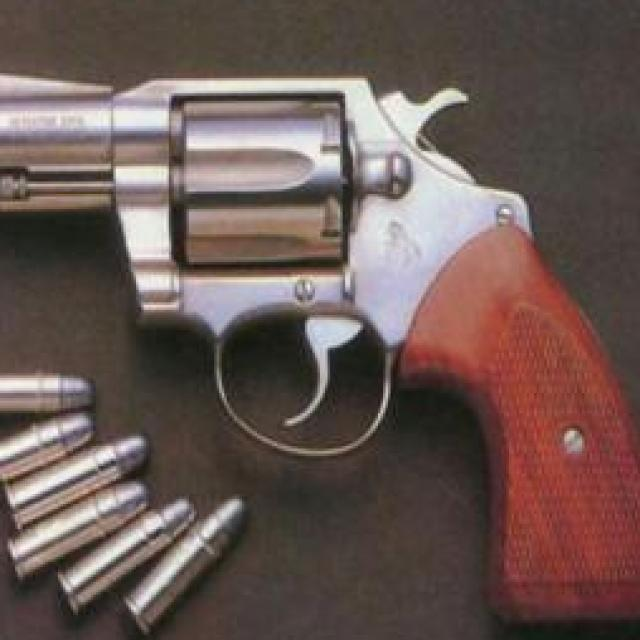pistol: (0, 68, 640, 632)
